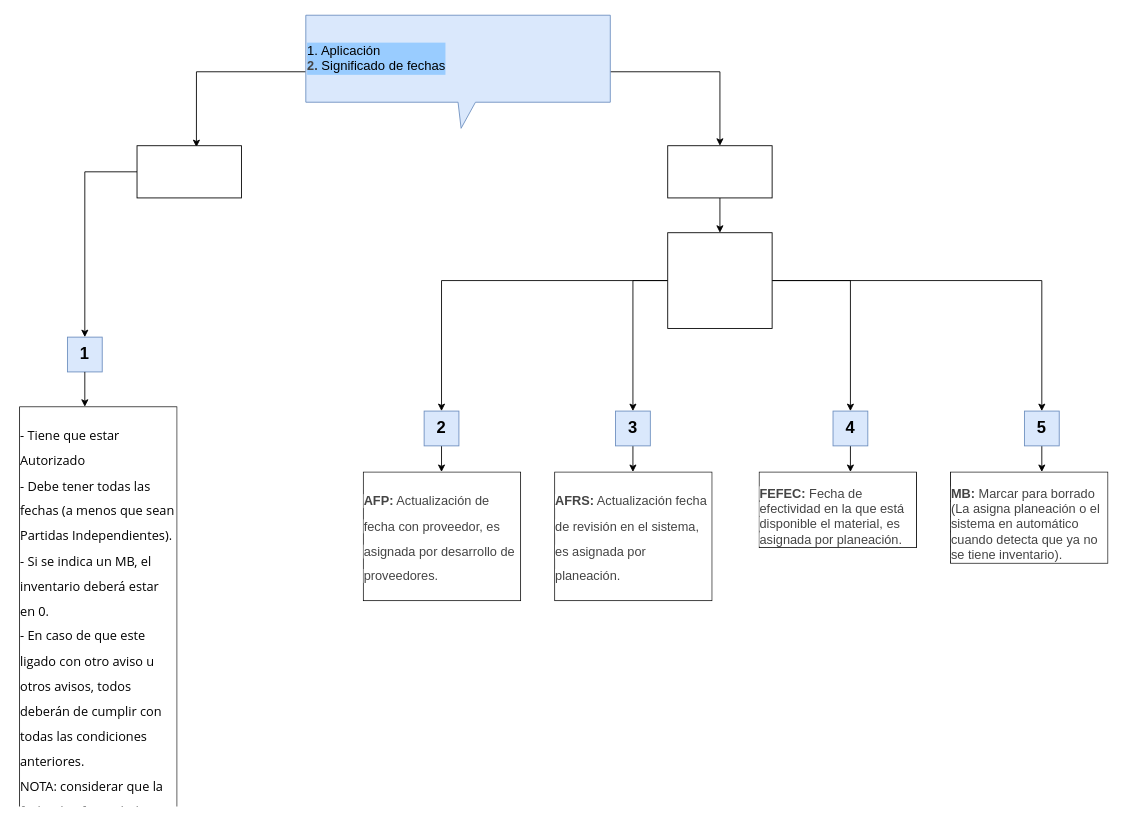
This 1126x834 diagram has some shape labels left out. The shapes that lost their labels are listed below. From the top down, each one's centre as x and y in pixels, then its label:
At (x=188, y=171): "1. Aplicación".
At (x=719, y=171): "2. Significado de fechas".
At (x=719, y=280): "2. AFP 3. AFRS 4. FEFEC 5. MB".
